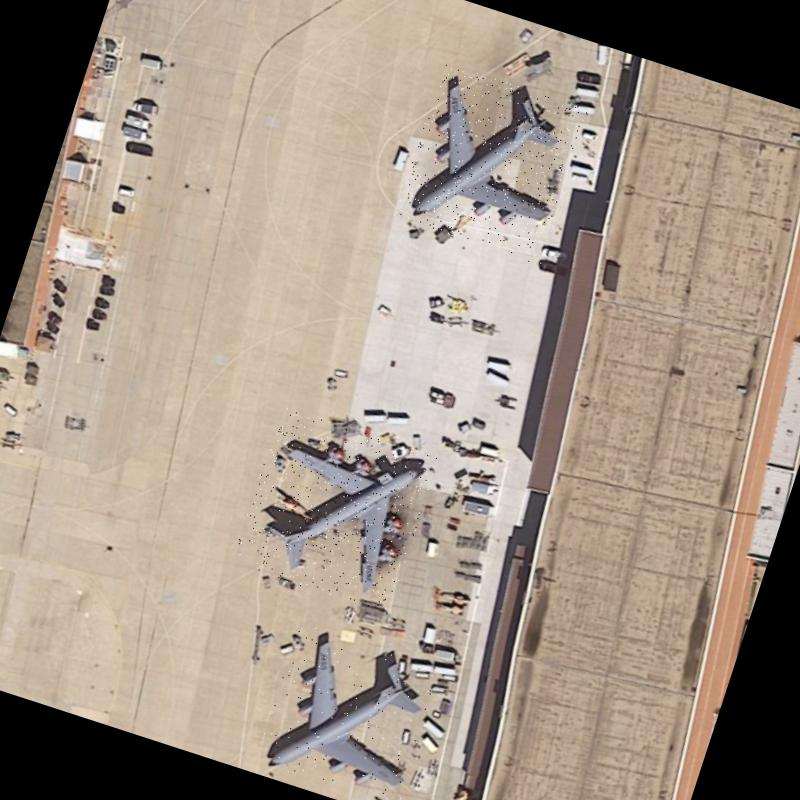A14: (231, 406, 439, 615), (394, 62, 591, 266), (253, 622, 443, 800)
